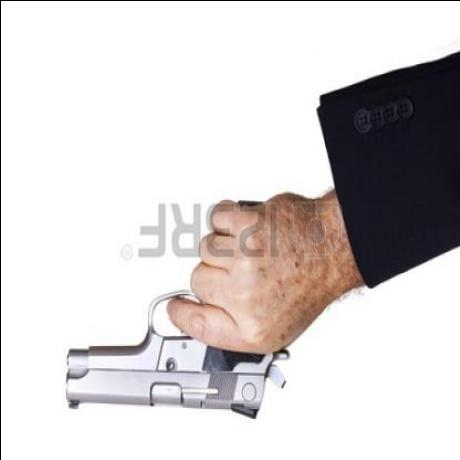1: (159, 51, 460, 360)
weapon: (60, 200, 284, 416)
